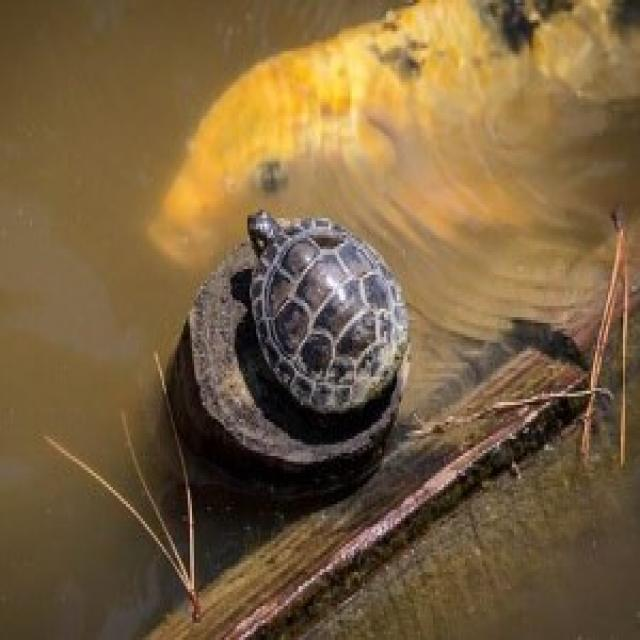Sea turtle: (211, 198, 428, 437)
